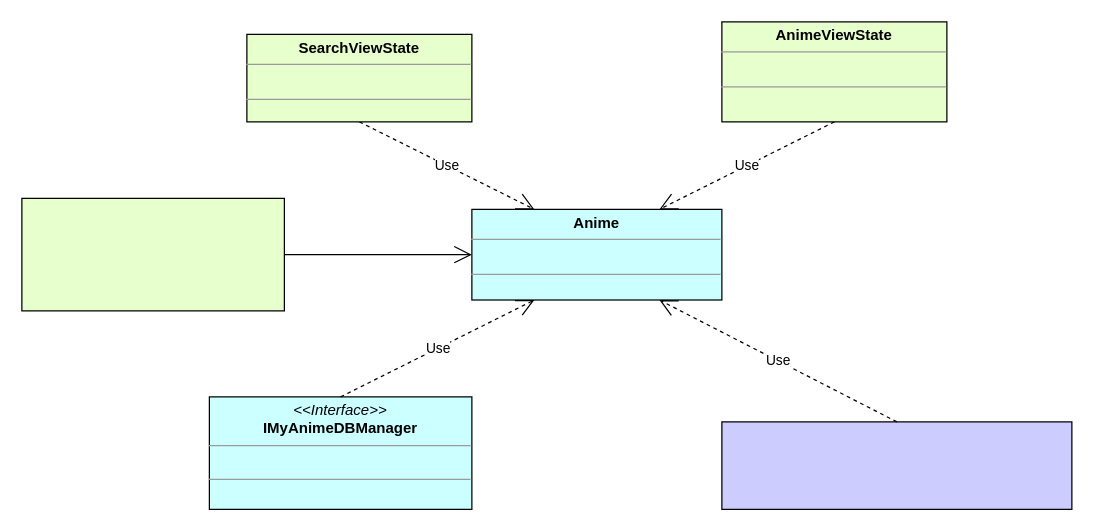
This 1094x531 diagram has some shape labels left out. The shapes that lost their labels are listed below. From the top down, each one's box as (x1, y1, x2, y2) in pixels, then its label:
(21, 197, 284, 311): <<Interface>> IView
(721, 421, 1072, 509): MyAnimeHubDBManagerJsonAdapter
